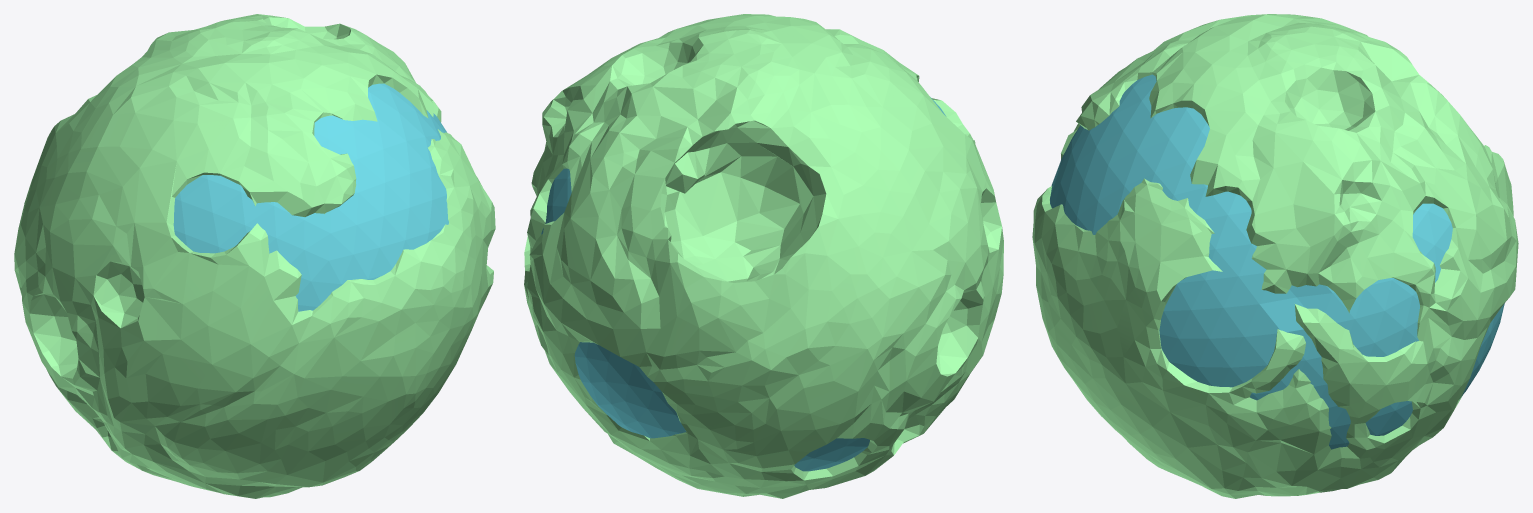
File: lake.fbx
3 views of the same model, side by side, from view 1: azimuth 30°, elevation 25°; view 2: azimuth 150°, elevation 25°; view 3: azimuth 270°, elevation 25° (orthographic). The views are drawn at different scales.
Parts seen in each view (by area): view 1: 1, 2; view 2: 1, 2; view 3: 1, 2.
Boxes of the visible parts, x1=… form: 1: x1=14, y1=14, x2=495, y2=498; 2: x1=173, y1=83, x2=448, y2=311; 1: x1=524, y1=14, x2=1003, y2=498; 2: x1=541, y1=97, x2=946, y2=471; 1: x1=1032, y1=14, x2=1518, y2=498; 2: x1=1050, y1=74, x2=1504, y2=449.
Size of the model in its own units: 375 by 387 by 377.
